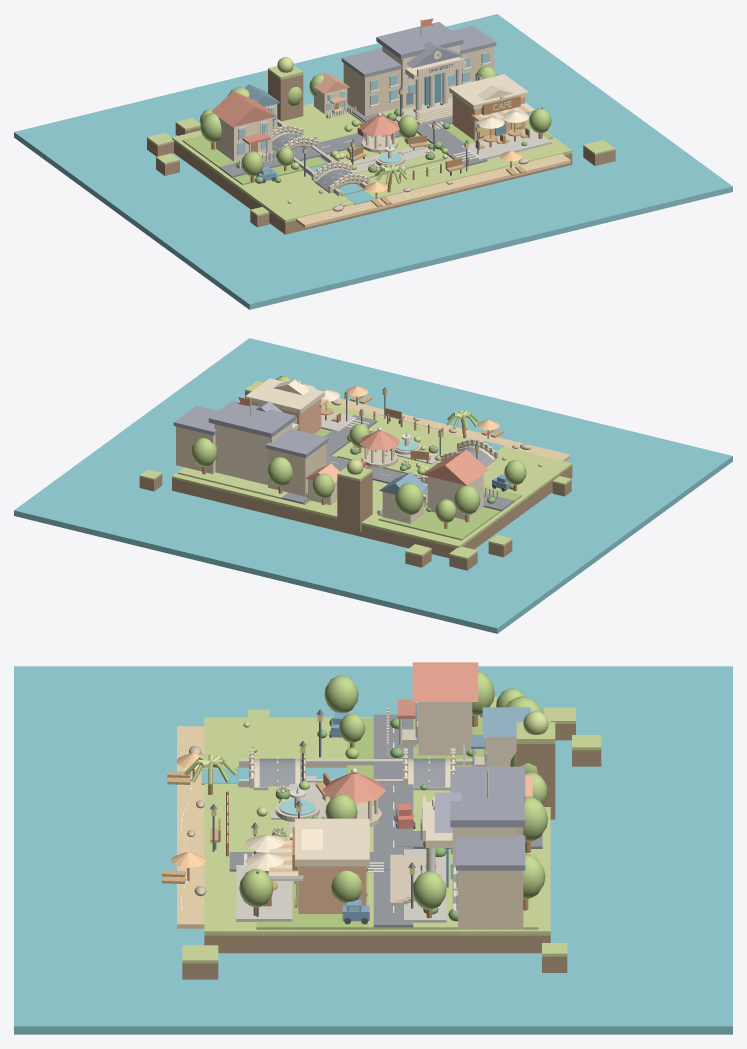
File: 3D model island.glb
3 views of the same model, one above another, from view 1: azimuth 30°, elevation 25°; view 2: azimuth 150°, elevation 25°; view 3: azimuth 270°, elevation 25° (orthographic). The views are drawn at different scales.
Parts seen in each view (by area): view 1: Large turquoise ocean, Main island grass surface, Beach foundation, ONE COHESIVE ISLAND - brown earth, University side wing, University central roof, Main east-west road, Large coral roof home pitched roof, Cafe flat roof parapet, Left residential district, Large coral roof home main cream walls, Tall rear green-topped terrain (+11 smaller); view 2: Large turquoise ocean, Main island grass surface, ONE COHESIVE ISLAND - brown earth, UNIVERSITY main central building, University central roof, Left residential district, Tall rear green-topped terrain, Beach foundation, Cafe flat roof parapet, University side wing, Large coral roof home pitched roof, Large coral roof home main cream walls (+14 smaller); view 3: Large turquoise ocean, Main island grass surface, ONE COHESIVE ISLAND - brown earth, Main east-west road, Beach foundation, University central roof, University side wing.001, Cafe flat roof parapet, Large coral roof home main cream walls, Large coral roof home pitched roof, University wing roof.001, CAFE main terracotta building (+30 smaller).
Part boxes in pixels (x1,y1,x2,y2): Large turquoise ocean: [14, 14, 732, 309]; Main island grass surface: [172, 103, 572, 222]; Beach foundation: [296, 153, 570, 227]; ONE COHESIVE ISLAND - brown earth: [174, 141, 572, 234]; University side wing: [343, 63, 400, 116]; University central roof: [376, 22, 463, 59]; Main east-west road: [219, 117, 452, 177]; Large coral roof home pitched roof: [211, 91, 276, 127]; Cafe flat roof parapet: [449, 74, 528, 109]; Left residential district: [182, 134, 325, 185]; Large coral roof home main cream walls: [216, 117, 272, 161]; Tall rear green-topped terrain: [268, 70, 303, 121]; Large turquoise ocean: [14, 338, 732, 633]; Main island grass surface: [172, 403, 572, 548]; ONE COHESIVE ISLAND - brown earth: [172, 465, 572, 557]; UNIVERSITY main central building: [214, 423, 292, 484]; University central roof: [208, 400, 295, 437]; Left residential district: [378, 486, 521, 540]; Tall rear green-topped terrain: [337, 472, 372, 531]; Beach foundation: [327, 399, 570, 461]; Cafe flat roof parapet: [245, 378, 324, 413]; University side wing: [268, 443, 326, 496]; Large coral roof home pitched roof: [423, 449, 488, 485]; Large coral roof home main cream walls: [427, 474, 483, 519]; Large turquoise ocean: [14, 666, 732, 1034]; Main island grass surface: [204, 717, 550, 935]; ONE COHESIVE ISLAND - brown earth: [204, 934, 550, 953]; Main east-west road: [373, 714, 413, 927]; Beach foundation: [177, 726, 204, 928]; University central roof: [450, 773, 524, 827]; University side wing.001: [458, 870, 523, 929]; Cafe flat roof parapet: [295, 818, 369, 866]; Large coral roof home main cream walls: [418, 702, 472, 755]; Large coral roof home pitched roof: [412, 662, 478, 701]; University wing roof.001: [456, 835, 525, 870]; CAFE main terracotta building: [298, 866, 366, 913].
Bounding box in the file's own units: 32 × 6.11 × 27.
